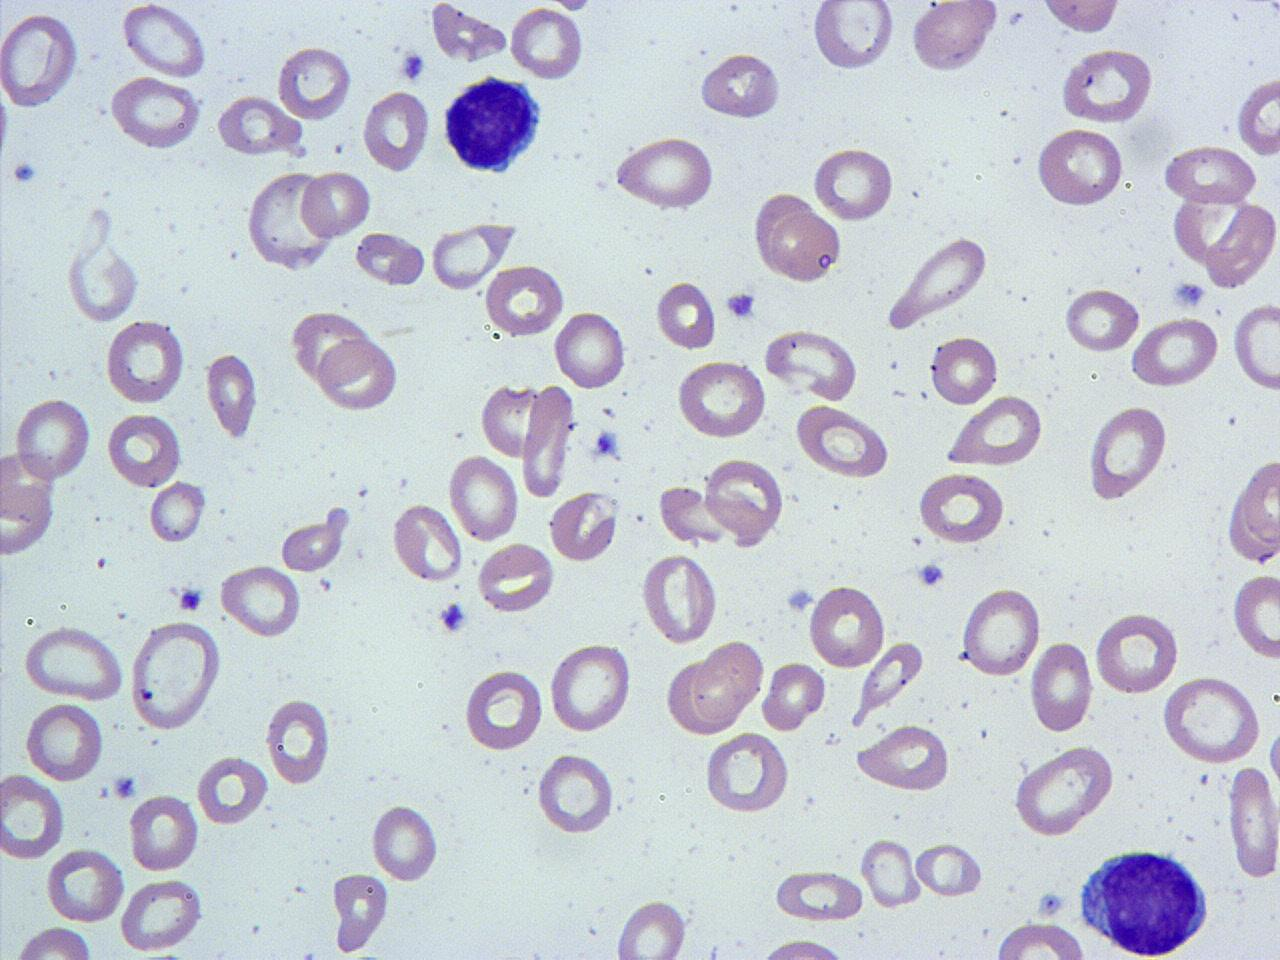Platelets: (1170, 279, 1208, 310), (0, 83, 13, 165), (724, 289, 758, 321), (398, 49, 428, 83), (1035, 889, 1067, 919), (439, 600, 468, 632), (915, 560, 947, 588), (592, 426, 620, 456), (784, 587, 816, 613), (9, 159, 38, 187), (178, 586, 206, 613), (113, 773, 139, 802)
RBC: (126, 618, 222, 731), (1010, 740, 1116, 839), (883, 234, 990, 330), (1160, 674, 1266, 768), (245, 168, 335, 273), (0, 9, 80, 113), (1086, 402, 1168, 503), (19, 624, 125, 702), (612, 134, 718, 212), (547, 640, 633, 736), (63, 222, 142, 324), (674, 357, 768, 441), (943, 392, 1045, 469), (702, 731, 791, 818), (640, 548, 718, 646), (959, 585, 1040, 680), (1092, 610, 1180, 696), (1035, 125, 1125, 210), (792, 404, 890, 481), (1057, 47, 1157, 122), (108, 75, 205, 151), (463, 665, 544, 755), (761, 327, 860, 401), (106, 317, 186, 407), (13, 393, 93, 483), (916, 468, 1006, 548), (1129, 314, 1221, 391), (851, 638, 926, 731), (703, 455, 785, 541), (808, 582, 886, 672), (854, 722, 950, 794), (1204, 199, 1278, 292), (118, 2, 208, 79), (118, 875, 204, 955), (447, 450, 520, 544), (811, 143, 895, 224), (23, 700, 104, 784), (908, 0, 998, 75), (44, 843, 126, 925), (218, 562, 302, 640), (536, 750, 614, 836), (289, 310, 376, 386), (1170, 190, 1252, 270), (694, 637, 766, 729), (1226, 761, 1280, 881), (663, 654, 741, 738), (694, 49, 782, 123), (274, 41, 353, 123), (1029, 638, 1095, 736), (483, 261, 565, 338), (552, 308, 627, 392), (810, 0, 896, 74), (104, 410, 182, 490), (475, 541, 557, 616), (127, 790, 201, 874), (1161, 142, 1259, 206), (520, 385, 577, 495), (265, 694, 332, 787), (361, 86, 430, 174), (317, 338, 400, 412), (0, 770, 67, 862), (508, 4, 586, 83), (368, 801, 440, 883), (391, 500, 463, 584), (766, 208, 844, 284), (215, 92, 301, 159), (195, 752, 269, 828), (928, 331, 1000, 408), (548, 488, 621, 563), (428, 222, 505, 292), (299, 168, 374, 240), (772, 868, 865, 926), (430, 0, 510, 67), (330, 869, 392, 954), (1061, 286, 1139, 354), (612, 895, 690, 960), (203, 352, 261, 438), (1230, 299, 1280, 396), (479, 382, 542, 459), (760, 659, 824, 734), (858, 836, 922, 909), (654, 278, 718, 352), (1230, 572, 1280, 662), (0, 476, 54, 557), (354, 229, 426, 288), (656, 484, 726, 546), (1233, 71, 1279, 160), (912, 840, 982, 899), (1239, 454, 1280, 552), (278, 514, 346, 574), (146, 479, 206, 546), (994, 920, 1089, 960), (9, 924, 97, 960), (1037, 0, 1125, 36), (749, 936, 861, 960)
WBC: (1074, 845, 1214, 958), (440, 73, 545, 178)
